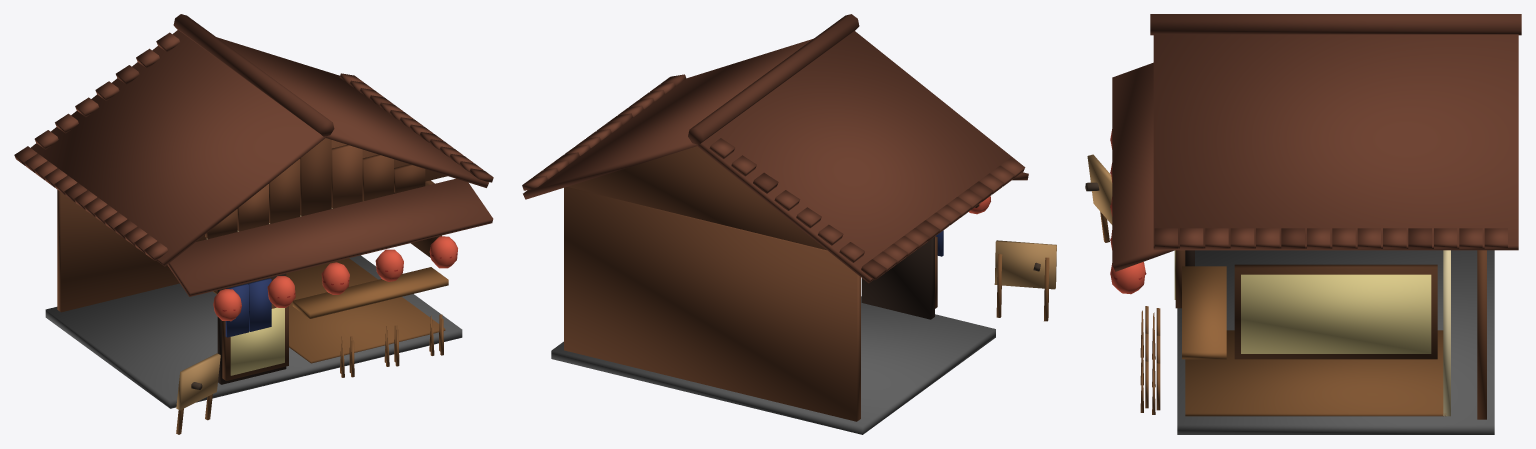
The model's file is izakaya.glb.
3 renders of one model, left to right at view 1: azimuth 30°, elevation 25°; view 2: azimuth 150°, elevation 25°; view 3: azimuth 270°, elevation 25°, orthographic. The views are drawn at different scales.
Visible parts, largest first — view 1: izakaya; view 2: izakaya; view 3: izakaya.
Part boxes in pixels (<box>): izakaya: <box>14,14,493,434</box>; izakaya: <box>522,14,1056,434</box>; izakaya: <box>1085,14,1521,434</box>.
Size of the model in its own units: 3.14 by 2.3 by 2.75.
